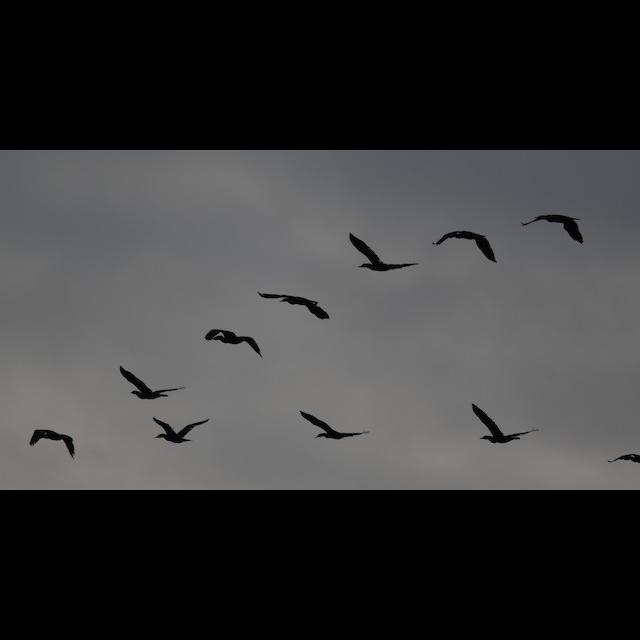cormorant: (346, 230, 418, 276), (468, 401, 540, 447), (250, 288, 330, 320), (428, 230, 496, 266), (518, 210, 586, 246), (296, 407, 368, 441), (118, 365, 184, 401), (201, 324, 265, 358), (26, 425, 80, 459), (150, 416, 212, 444)
